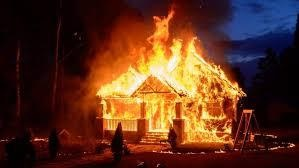fire: (95, 6, 248, 145)
